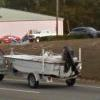Boat: (7, 43, 82, 90)
